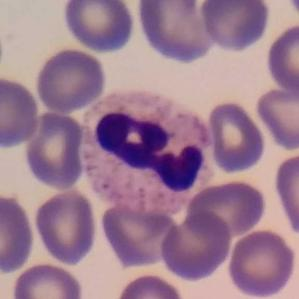Neutrophil: (73, 85, 219, 220)
RBC: (98, 200, 182, 270), (158, 209, 234, 283), (134, 0, 219, 65), (32, 188, 100, 267), (225, 227, 298, 299), (22, 109, 86, 191), (34, 46, 108, 114), (186, 177, 268, 238), (205, 99, 268, 175), (60, 0, 138, 55), (197, 0, 273, 54), (0, 74, 42, 150), (253, 83, 299, 151), (0, 191, 37, 275), (10, 260, 86, 299), (263, 20, 299, 96), (271, 148, 299, 240), (112, 271, 187, 299)
